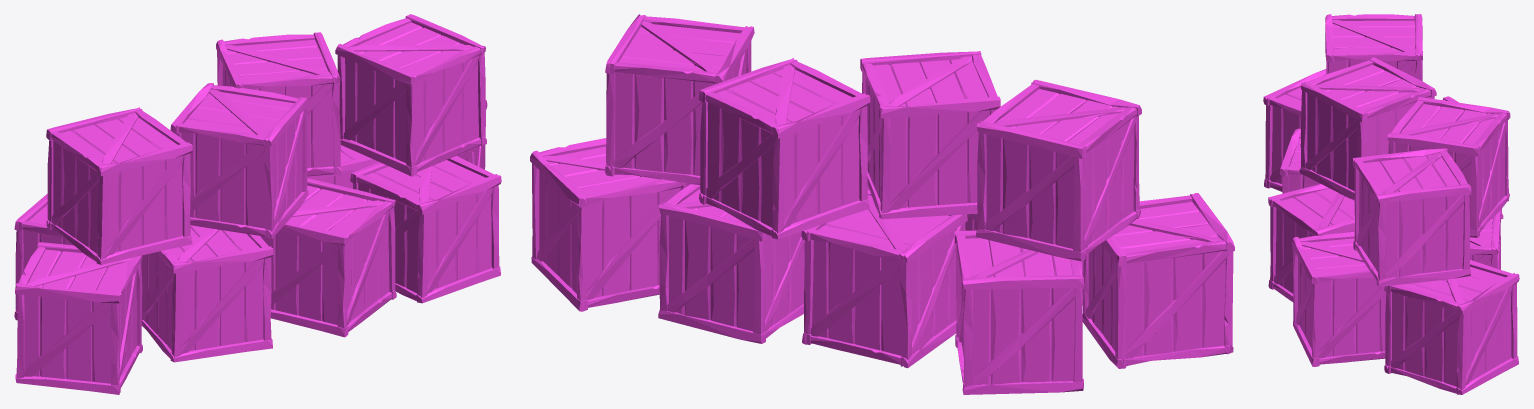
The model's file is SM_Box_Group_Fantasy_Big.fbx.
The picture shows the model from 3 angles, left to right: view 1: azimuth 30°, elevation 25°; view 2: azimuth 150°, elevation 25°; view 3: azimuth 270°, elevation 25°; orthographic projection. The views are drawn at different scales.
Parts seen in each view (by area): view 1: SM_Box_Group_Fantasy_Big; view 2: SM_Box_Group_Fantasy_Big; view 3: SM_Box_Group_Fantasy_Big.
Boxes of the visible parts, box(x1,y1,x2,y2) form: SM_Box_Group_Fantasy_Big: box(14, 14, 501, 394); SM_Box_Group_Fantasy_Big: box(530, 14, 1234, 394); SM_Box_Group_Fantasy_Big: box(1263, 14, 1519, 394).
Bounding box in the file's own units: 5.78 × 2.02 × 2.6.
